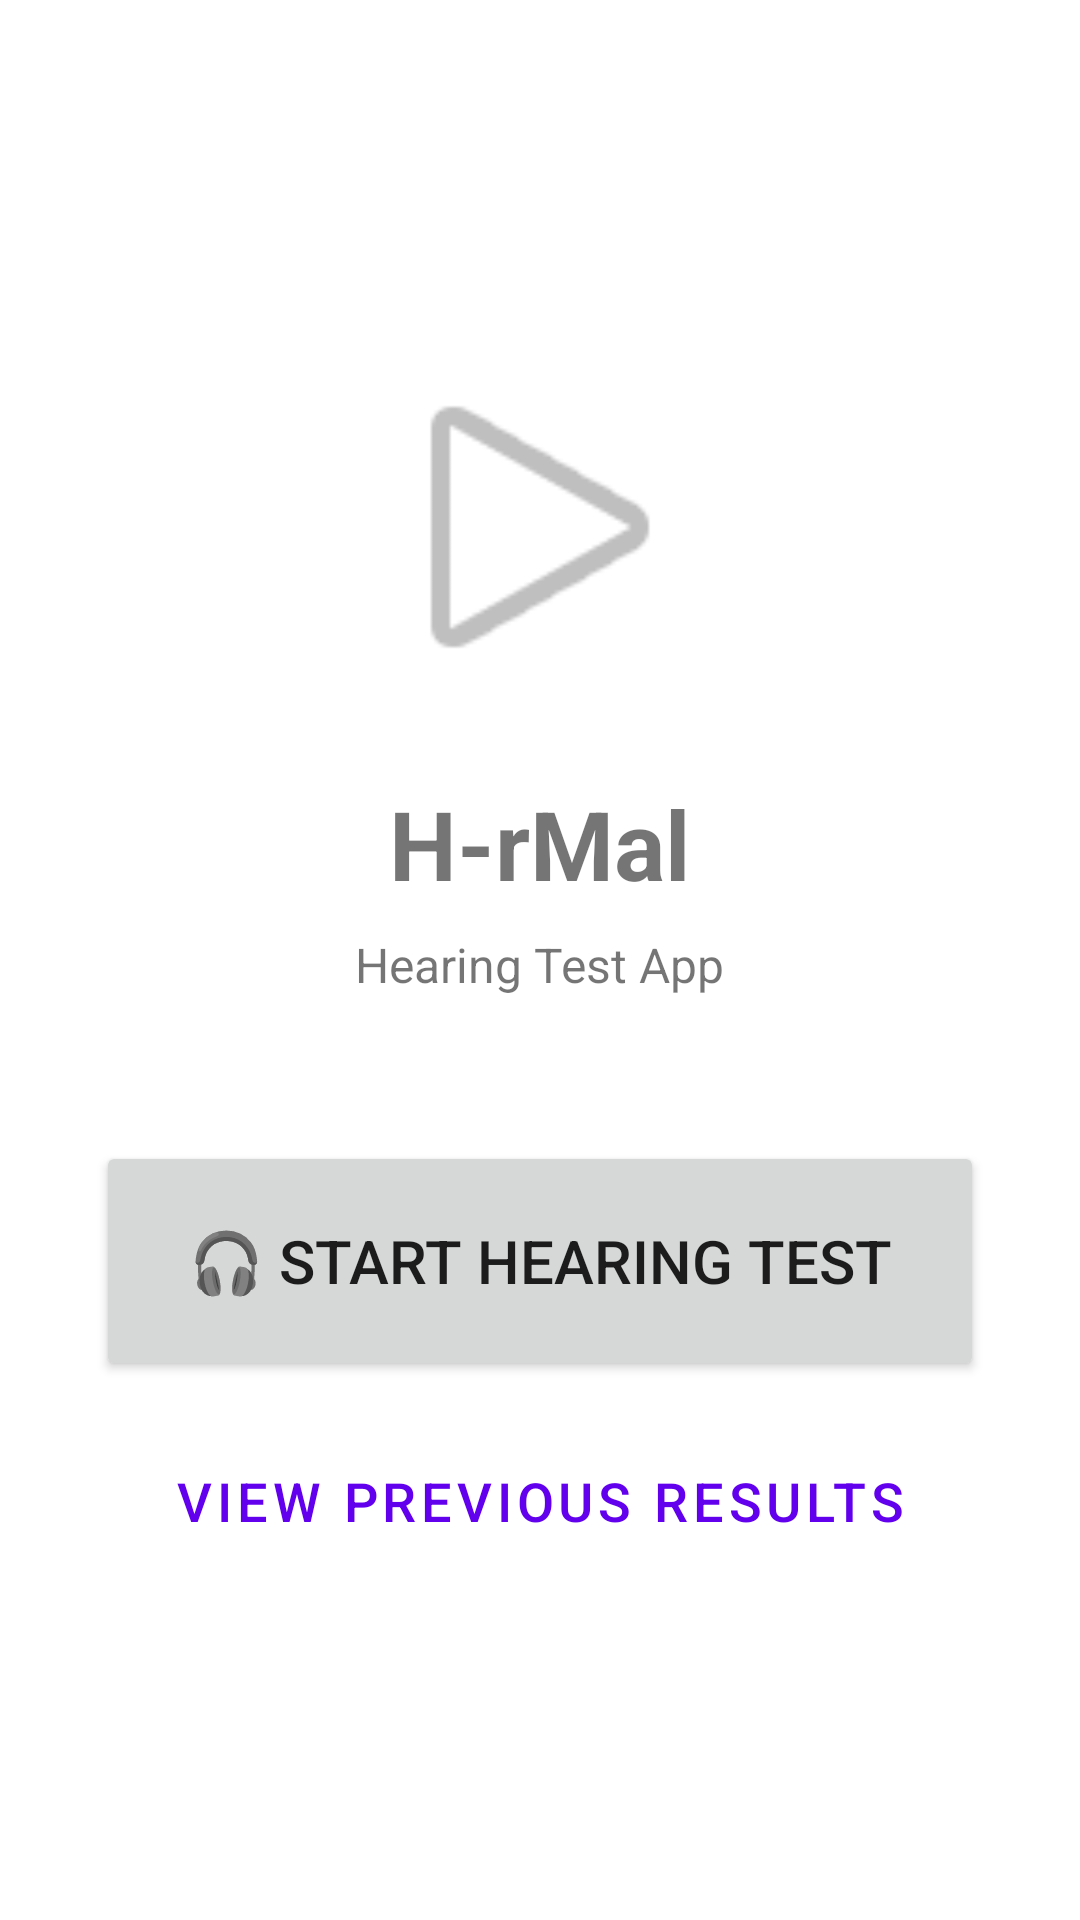

Named icons in this screenshot (1080x1920) and their bounding boxes, (left=x1, top=y1, right=x2, bottom=y2):
play: (left=431, top=407, right=649, bottom=647)
